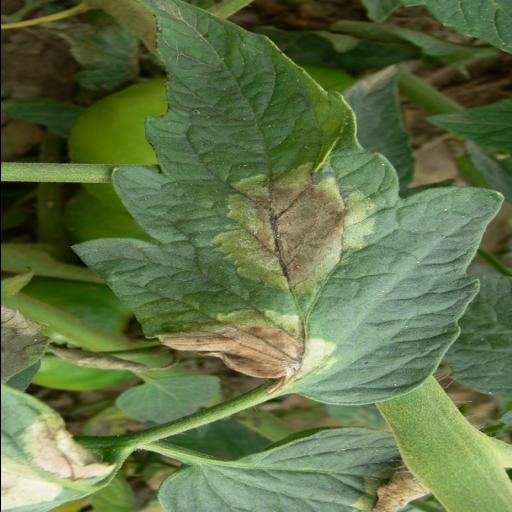Late Blight: (66, 0, 502, 407)
